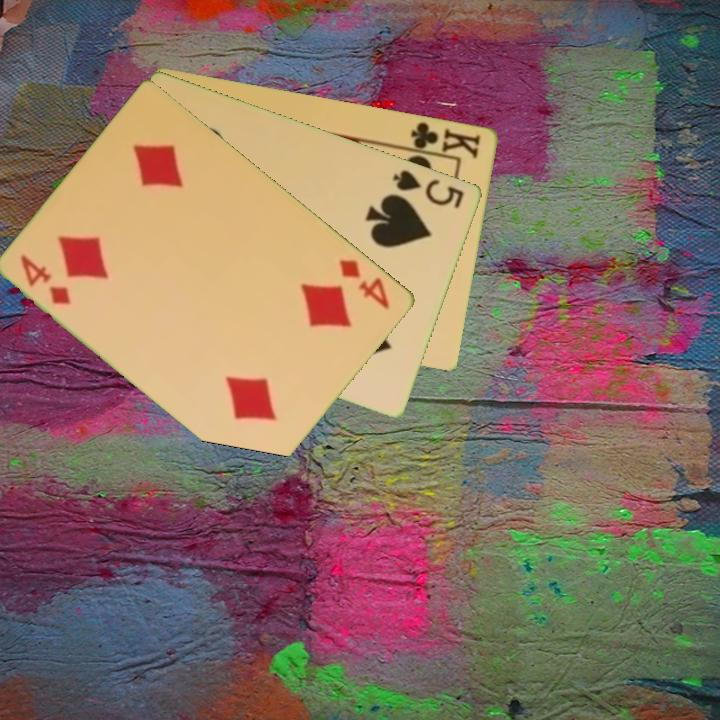4d: (17, 251, 75, 308), (336, 255, 393, 312)
5s: (389, 166, 467, 212)
Kc: (402, 118, 484, 161)
